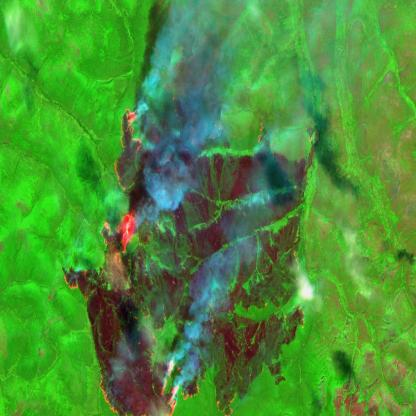fire: (59, 104, 314, 416)
